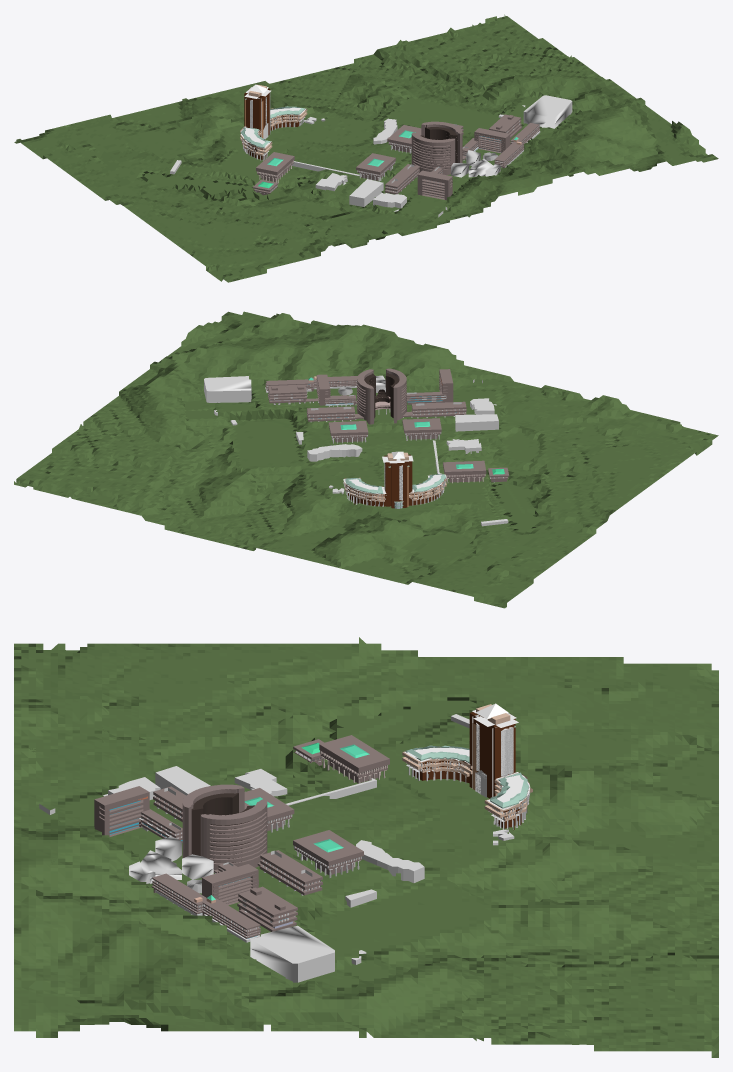
File: ジオメトリ2.glb
3 views of the same model, one above another, from view 1: azimuth 30°, elevation 25°; view 2: azimuth 150°, elevation 25°; view 3: azimuth 270°, elevation 25° (orthographic). The views are drawn at different scales.
Parts seen in each view (by area): view 1: plate, kariburokku, Cube.017, kennkyuutou1, Cube.274, Cube.461, Cube.299, Cube.327, Cube.297, kougitouB1, Cube.316, Cube.457; view 2: plate, kariburokku, Cube.017, kennkyuutou1, Cube.299, Cube.274, kougitouB1, Cube.297, Cube.316, Cube.461, Cube.327, kougitouA1 (+1 smaller); view 3: plate, kariburokku, Cube.017, kennkyuutou1, Cube.274, Cube.327, Cube.299, Cube.316, Cube.457, Cube.461, kougitouA1, Cube.297 (+1 smaller).
Boxes of the visible parts, x1,y1,x2,y2 form: plate: (14,14,718,282); kariburokku: (170,95,572,217); Cube.017: (240,84,307,160); kennkyuutou1: (411,121,462,174); Cube.274: (417,166,452,200); Cube.461: (462,128,510,160); Cube.299: (256,152,294,182); Cube.327: (494,123,540,168); Cube.297: (356,153,395,181); kougitouB1: (384,164,419,194); Cube.316: (387,125,421,153); Cube.457: (489,114,522,138); plate: (14,311,718,608); kariburokku: (204,375,508,526); Cube.017: (343,451,446,508); kennkyuutou1: (357,368,406,424); Cube.299: (443,460,486,483); Cube.274: (406,369,453,404); kougitouB1: (402,401,466,418); Cube.297: (402,418,441,440); Cube.316: (328,421,368,443); Cube.461: (304,374,356,406); Cube.327: (265,376,357,392); kougitouA1: (306,406,363,422); plate: (14,637,718,1057); kariburokku: (39,714,514,982); Cube.017: (402,703,532,830); kennkyuutou1: (182,784,267,873); Cube.274: (94,786,182,842); Cube.327: (151,873,260,942); Cube.299: (319,735,389,783); Cube.316: (293,830,363,877); Cube.457: (237,886,297,931); Cube.461: (202,862,258,905); kougitouA1: (257,850,322,895); Cube.297: (244,788,294,832).
Size of the model in its own units: 1481 by 199 by 1120.
